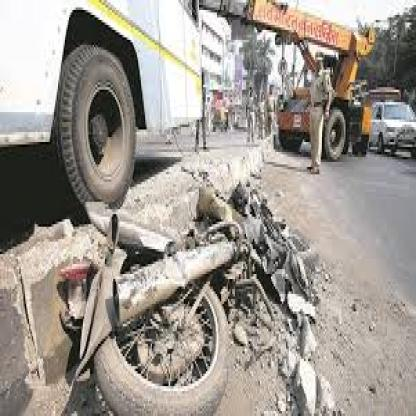accident: (53, 88, 323, 416)
